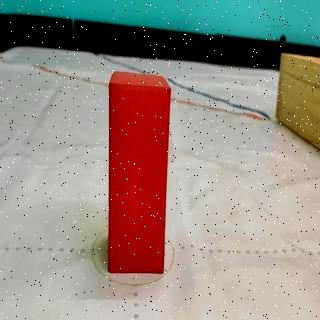redbox: (110, 70, 172, 274)
